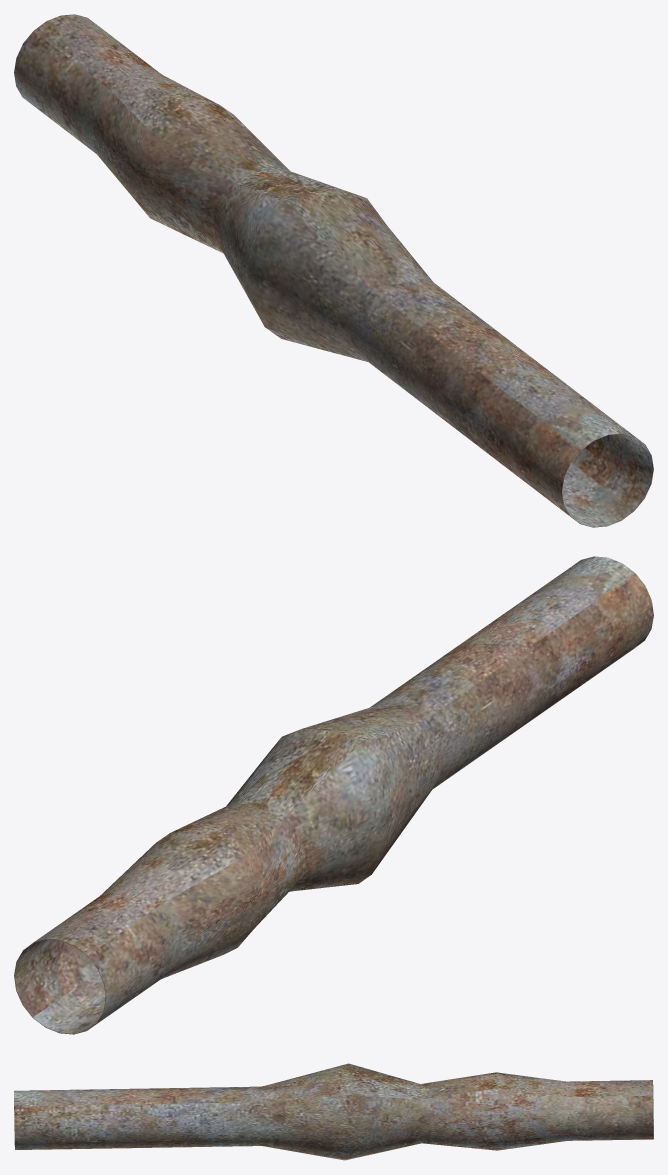
File: gaspipe_bent.fbx
3 renders of one model, top to bottom at view 1: azimuth 30°, elevation 25°; view 2: azimuth 150°, elevation 25°; view 3: azimuth 270°, elevation 25°, orthographic. The views are drawn at different scales.
Visible parts, largest first — view 1: pPipe6; view 2: pPipe6; view 3: pPipe6.
Boxes of the visible parts, bbox=[...] form: pPipe6: bbox=[14, 14, 653, 527]; pPipe6: bbox=[14, 556, 653, 1034]; pPipe6: bbox=[14, 1063, 653, 1160].
Size of the model in its own units: 1.31 by 1.42 by 9.87.
1 material, 1 textured.
